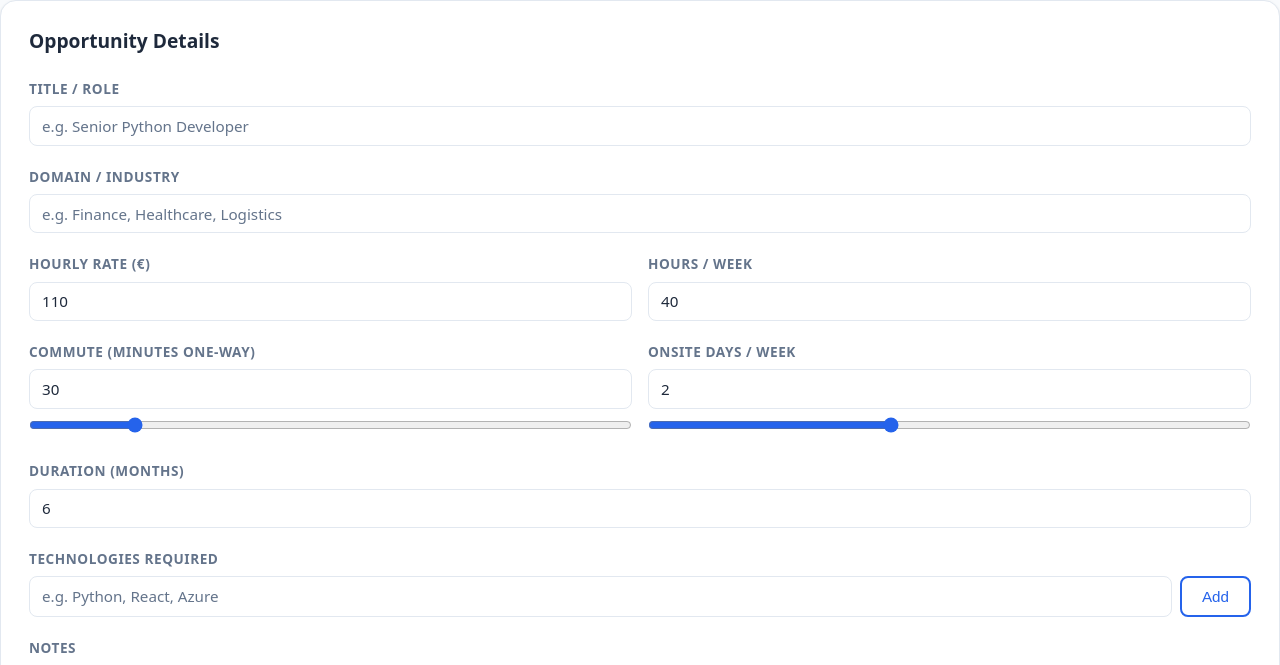
Test: EvaluatorForm › can add a technology tag
Type "Python" into the field named "Add technology" at (600, 596), box [29, 576, 1172, 617]
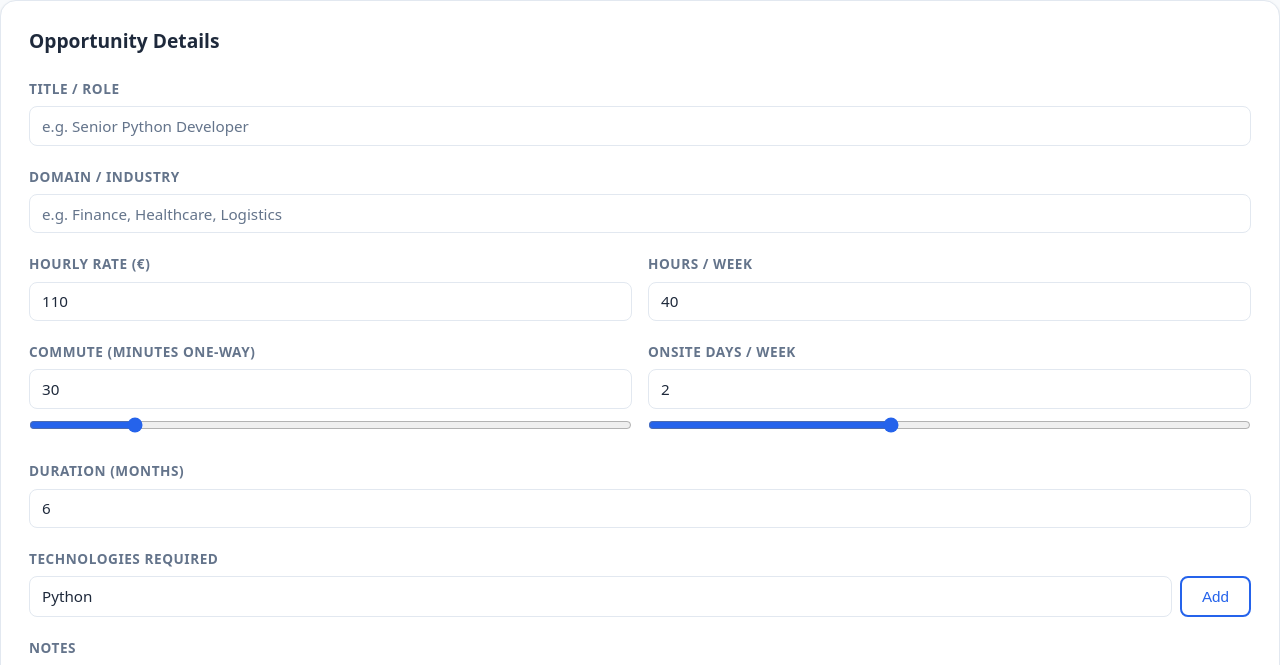
Click the button "Add" at (1216, 596), box [1180, 576, 1251, 617]
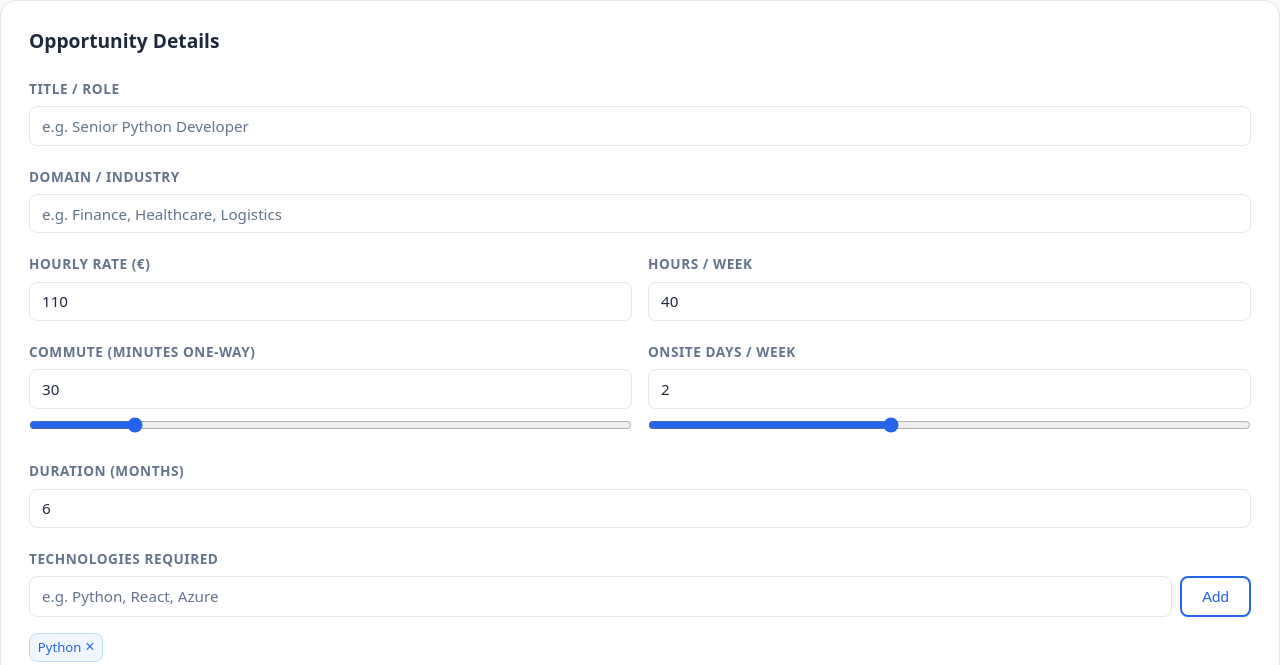
Result: the text "Python" is shown at [38, 638, 81, 656]
